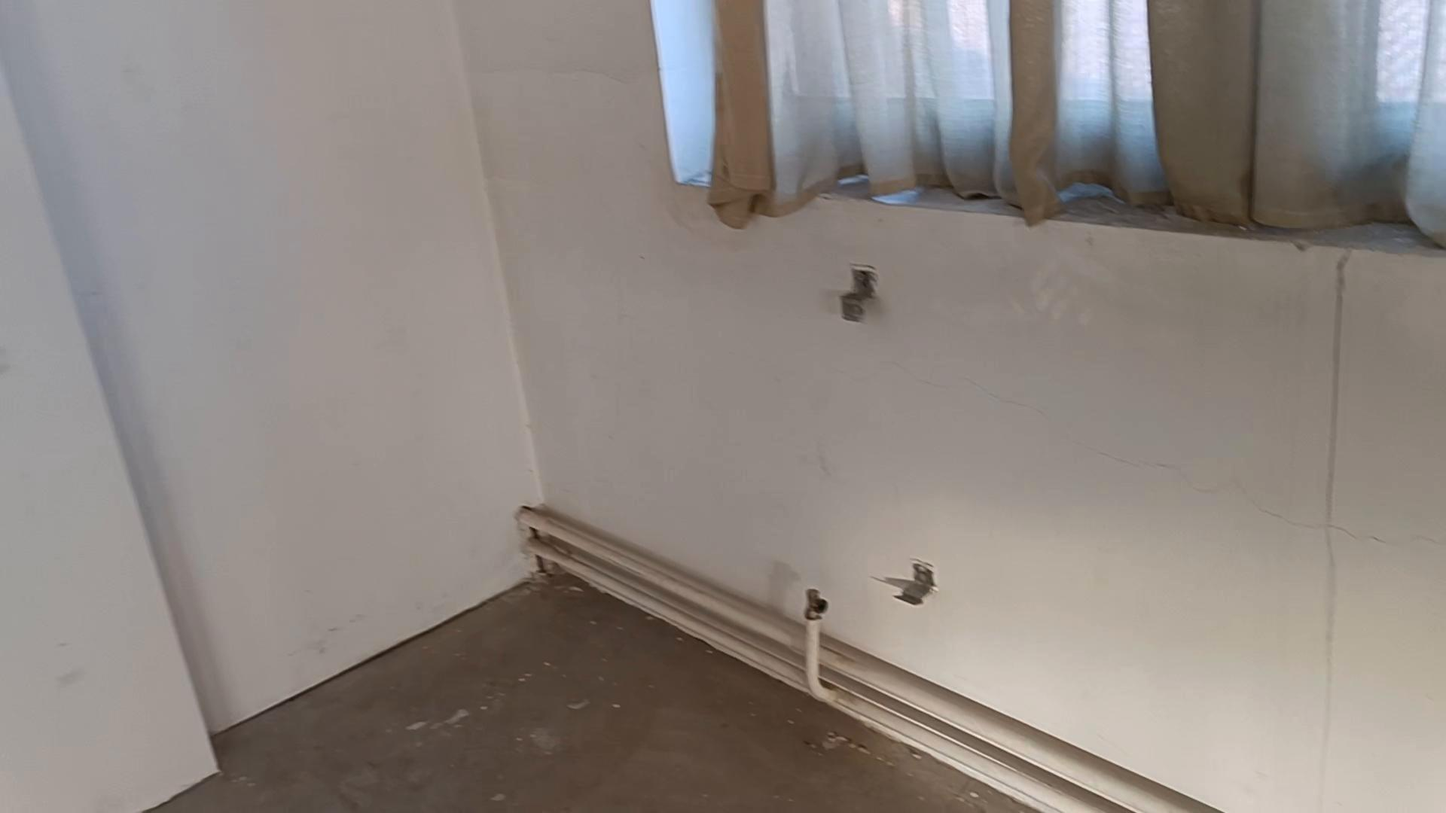floor: (150, 572, 1033, 812)
wall: (0, 0, 1445, 812), (0, 0, 538, 729), (4, 66, 217, 812)
